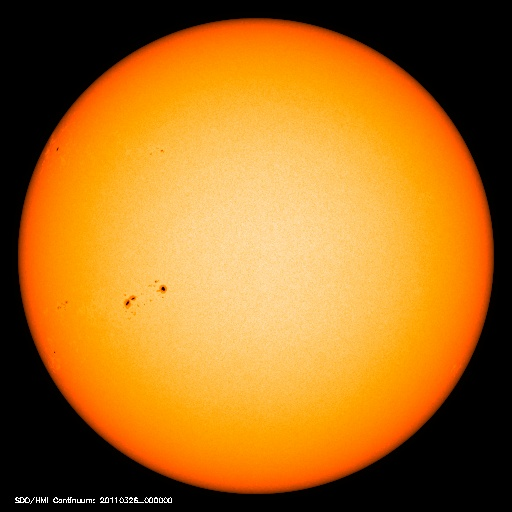sunspot: (117, 275, 176, 324), (137, 140, 171, 164), (46, 135, 71, 161), (48, 295, 73, 316)
